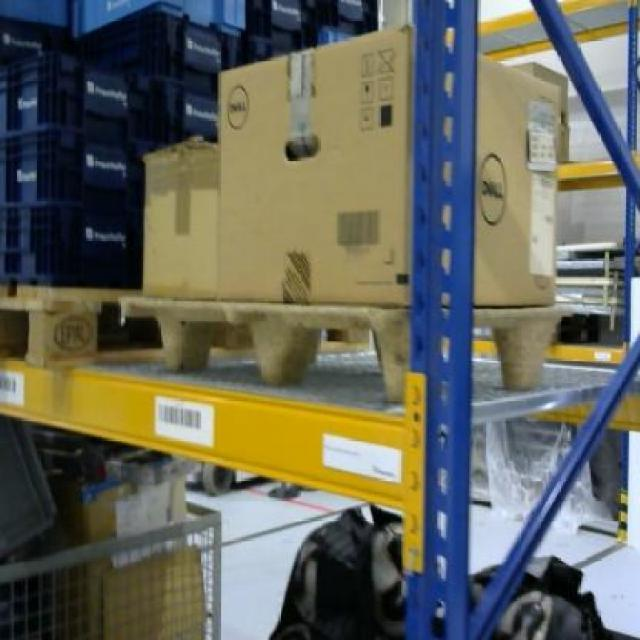box: (215, 22, 557, 304), (138, 138, 218, 297)
